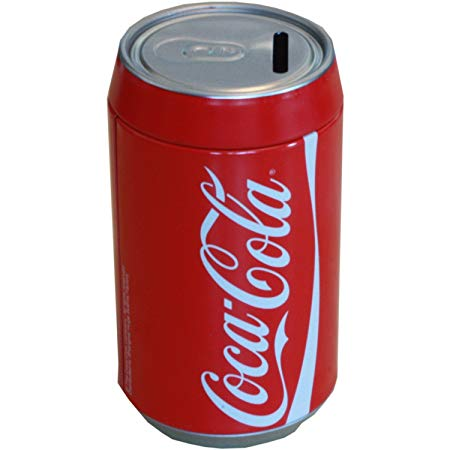can: (101, 1, 371, 449)
